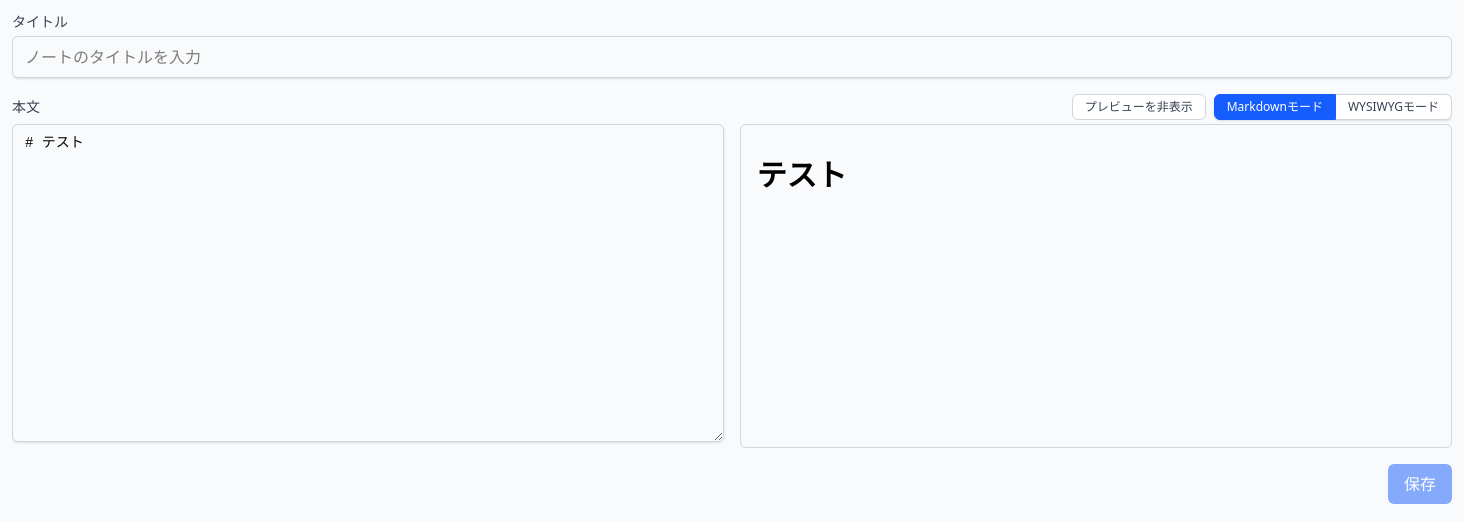
Test: NoteEditor › プレビュー非表示ボタンをクリックするとプレビューが非表示になること
What coordinates should you click on to do the following:
click the button "プレビューを非表示"
I would click on:
 (1139, 107)
Its box is [1072,94,1206,120].
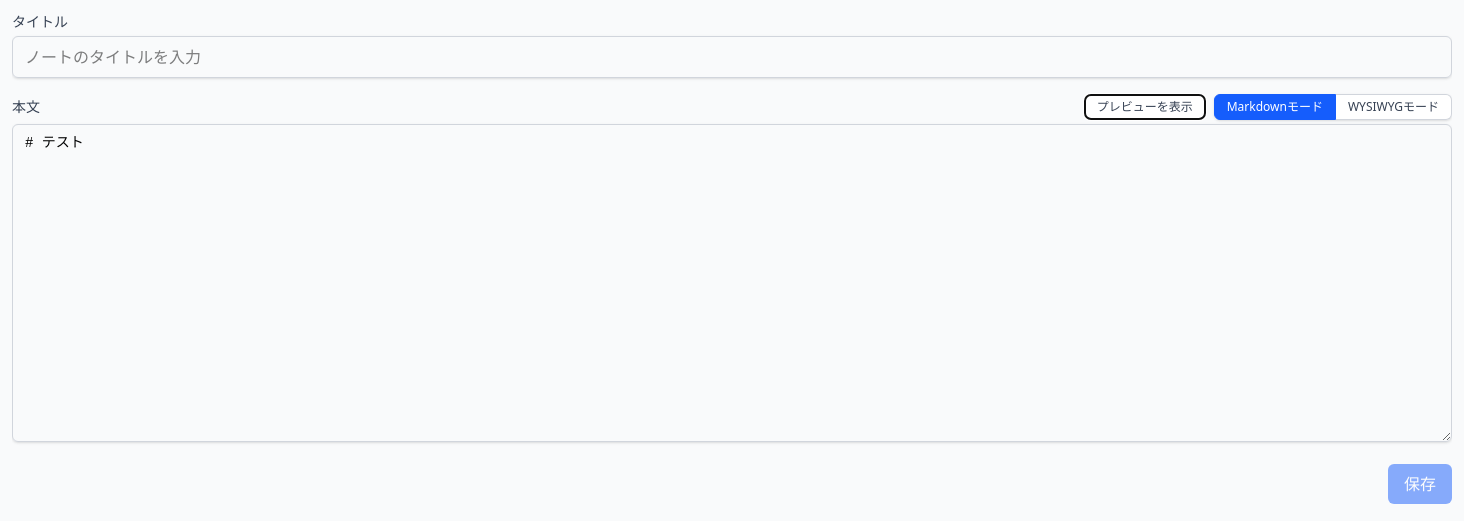
Result: the field labelled "プレビューパネル" is gone
